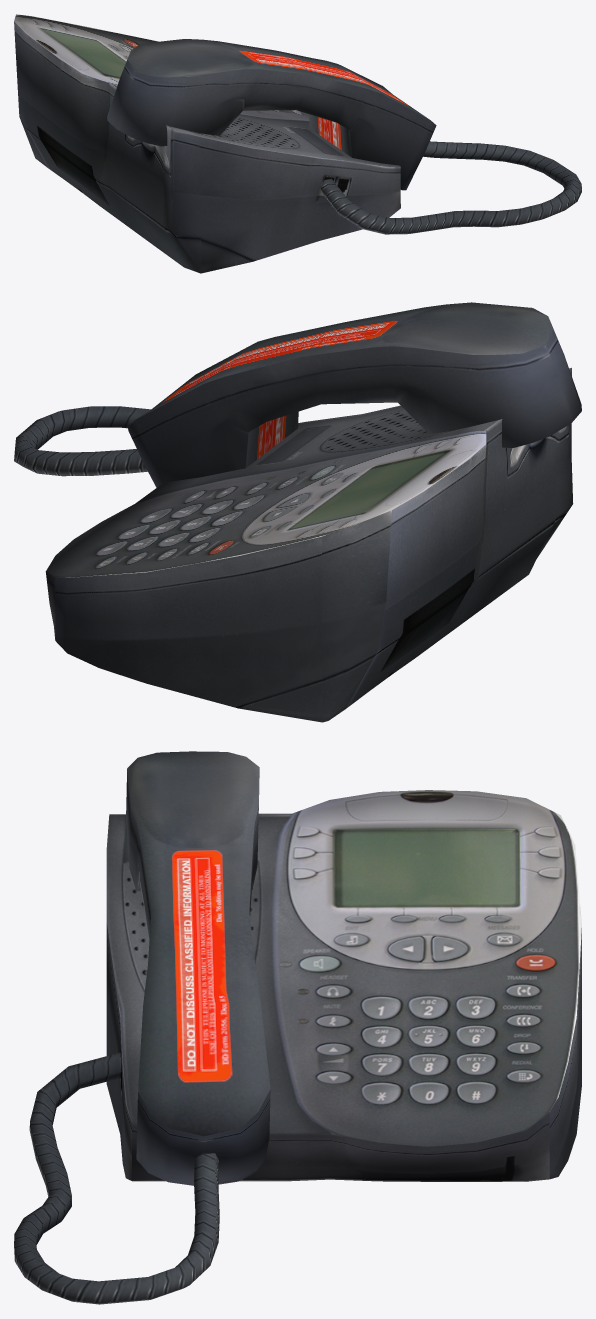
Rendered from Office_Phone_1old.fbx.
The picture shows the model from 3 angles, top to bottom: view 1: azimuth 30°, elevation 25°; view 2: azimuth 150°, elevation 25°; view 3: azimuth 270°, elevation 25°; orthographic projection. The views are drawn at different scales.
Parts seen in each view (by area): view 1: Office_Phone_1; view 2: Office_Phone_1; view 3: Office_Phone_1.
Boxes of the visible parts, bbox=[...] form: Office_Phone_1: bbox=[14, 14, 581, 273]; Office_Phone_1: bbox=[14, 302, 581, 722]; Office_Phone_1: bbox=[14, 751, 581, 1304].
Size of the model in its own units: 33.11 by 14.42 by 26.66.
